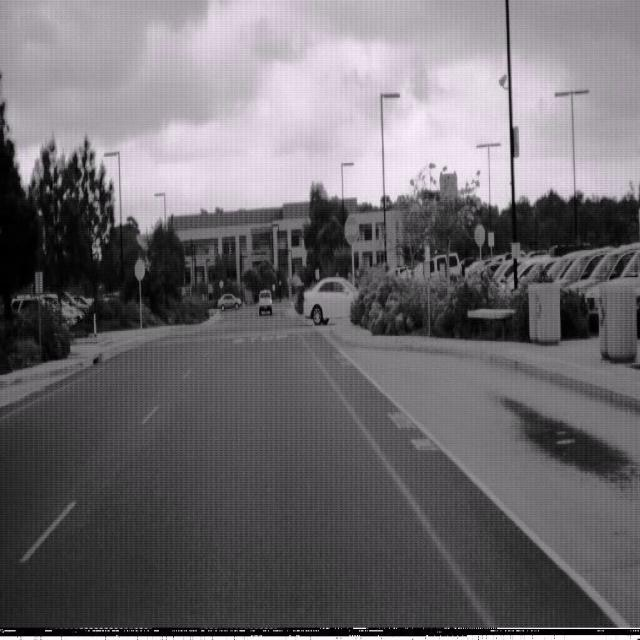stop: (344, 212, 359, 245)
